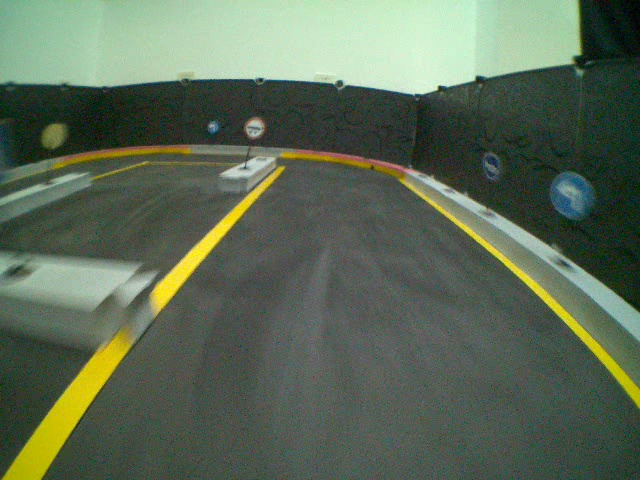Check: (243, 116, 266, 139)
horn: (481, 152, 502, 181)
turn: (549, 170, 594, 221), (205, 119, 219, 134)
